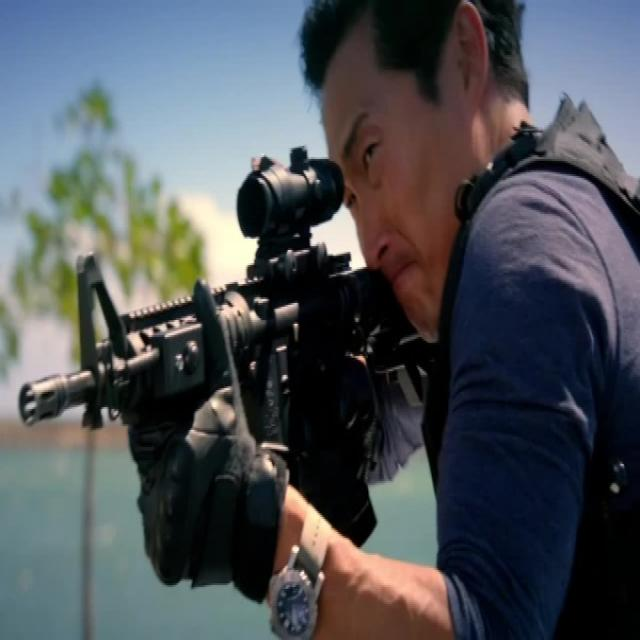rifle: (11, 133, 436, 555)
